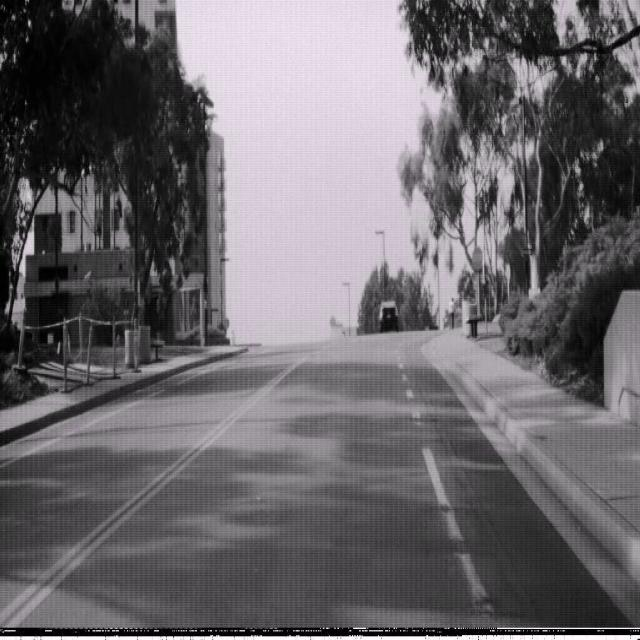stop: (471, 244, 483, 270)
